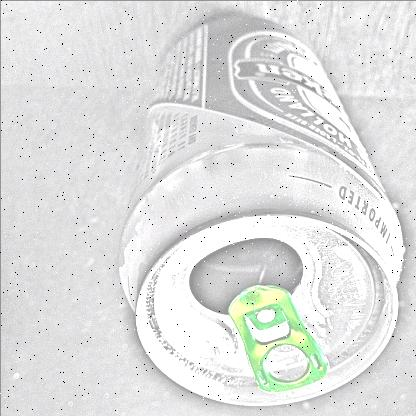Can: (113, 8, 408, 408)
